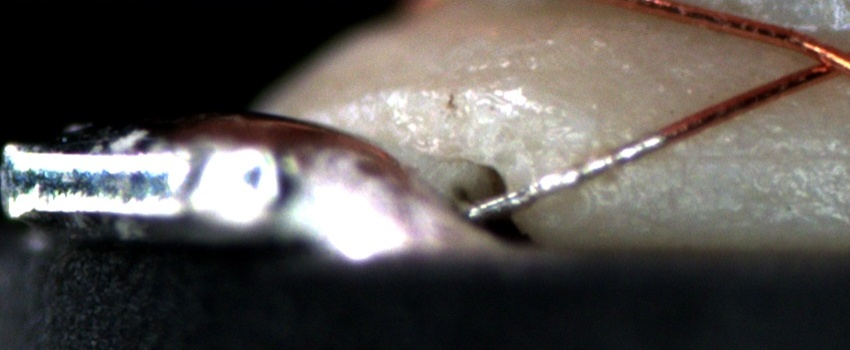CL: (792, 33, 850, 85)
DL: (675, 124, 850, 186)
TS: (467, 132, 664, 219)
